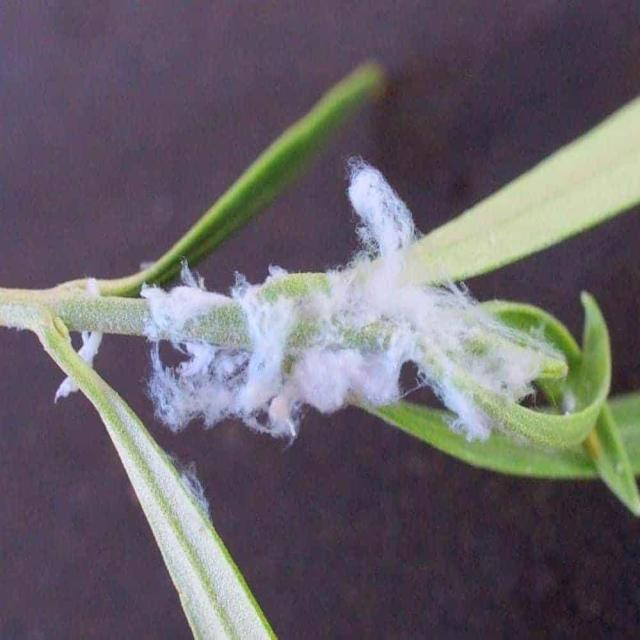Psyllid: (141, 157, 547, 443)
